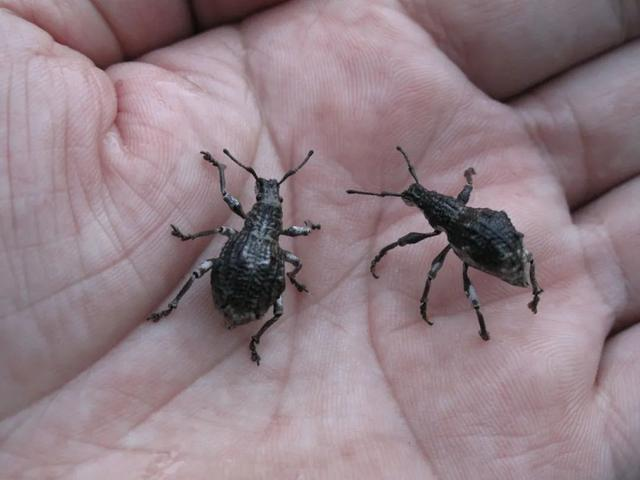Curculionidae: (145, 146, 322, 365), (347, 145, 544, 341)
